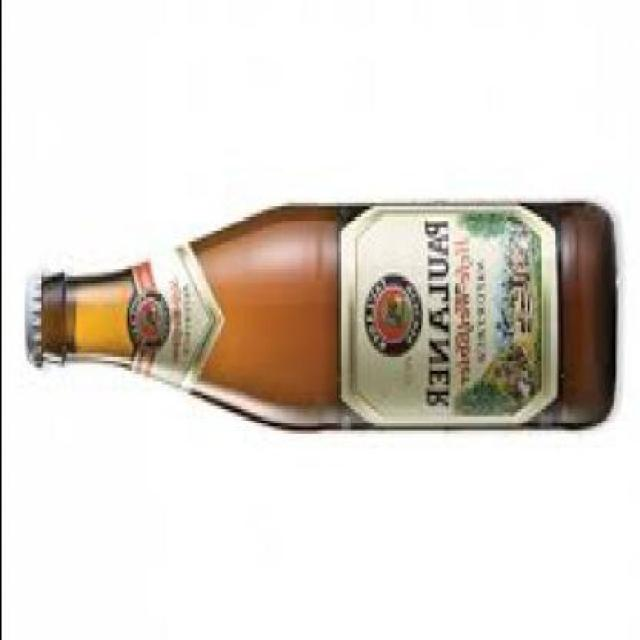GLASS: (39, 203, 615, 423)
METAL: (21, 272, 37, 360)
